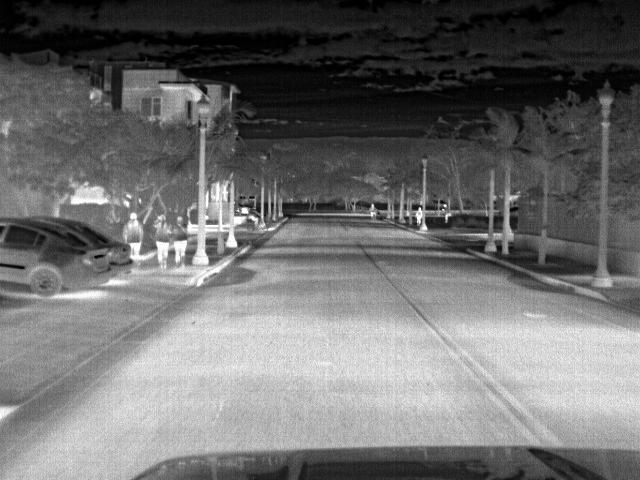car: (2, 218, 109, 296), (25, 213, 134, 278)
person: (152, 211, 173, 267), (170, 212, 188, 267), (124, 212, 144, 261), (415, 206, 426, 227), (368, 204, 379, 222)
